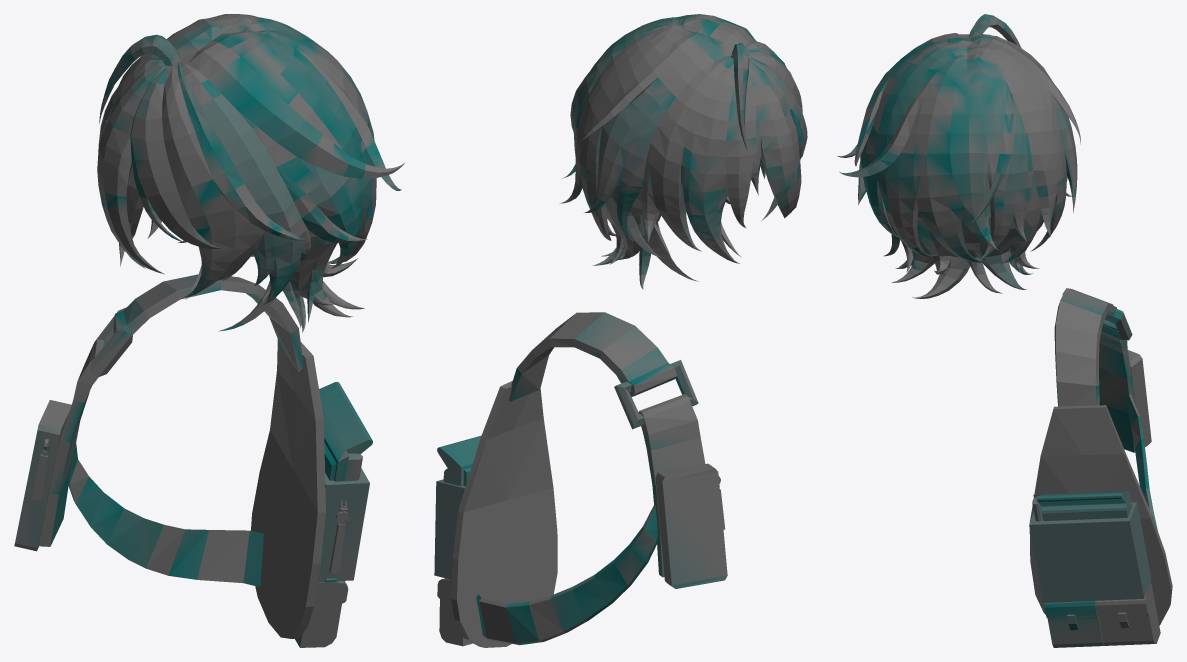
File: Zhe_deal.fbx
3 renders of one model, left to right at view 1: azimuth 30°, elevation 25°; view 2: azimuth 150°, elevation 25°; view 3: azimuth 270°, elevation 25°, orthographic. The views are drawn at different scales.
Visible parts, largest first — view 1: Zhe; view 2: Zhe; view 3: Zhe.
Part boxes in pixels (<box>): Zhe: <box>14,14,404,647</box>; Zhe: <box>434,14,807,647</box>; Zhe: <box>837,14,1172,647</box>.
Size of the model in its own units: 30.1 by 60.23 by 33.31.
